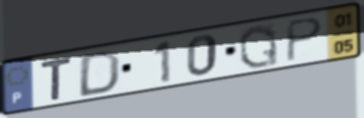0: (184, 33, 219, 79)
1: (153, 39, 172, 85)
D: (76, 48, 123, 99)
P: (283, 15, 326, 64)
Q: (237, 23, 281, 70)
T: (38, 55, 74, 102)
